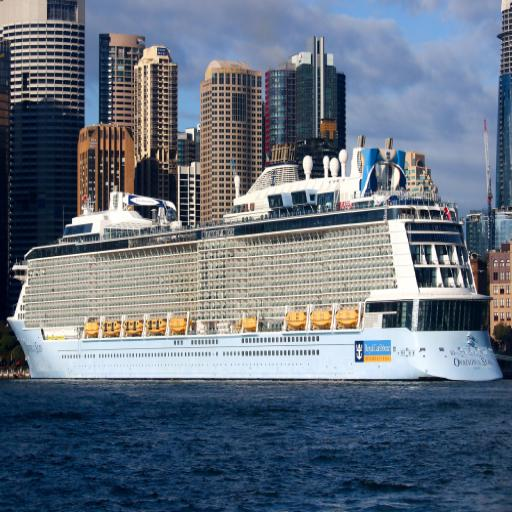cruises: (10, 133, 508, 390)
